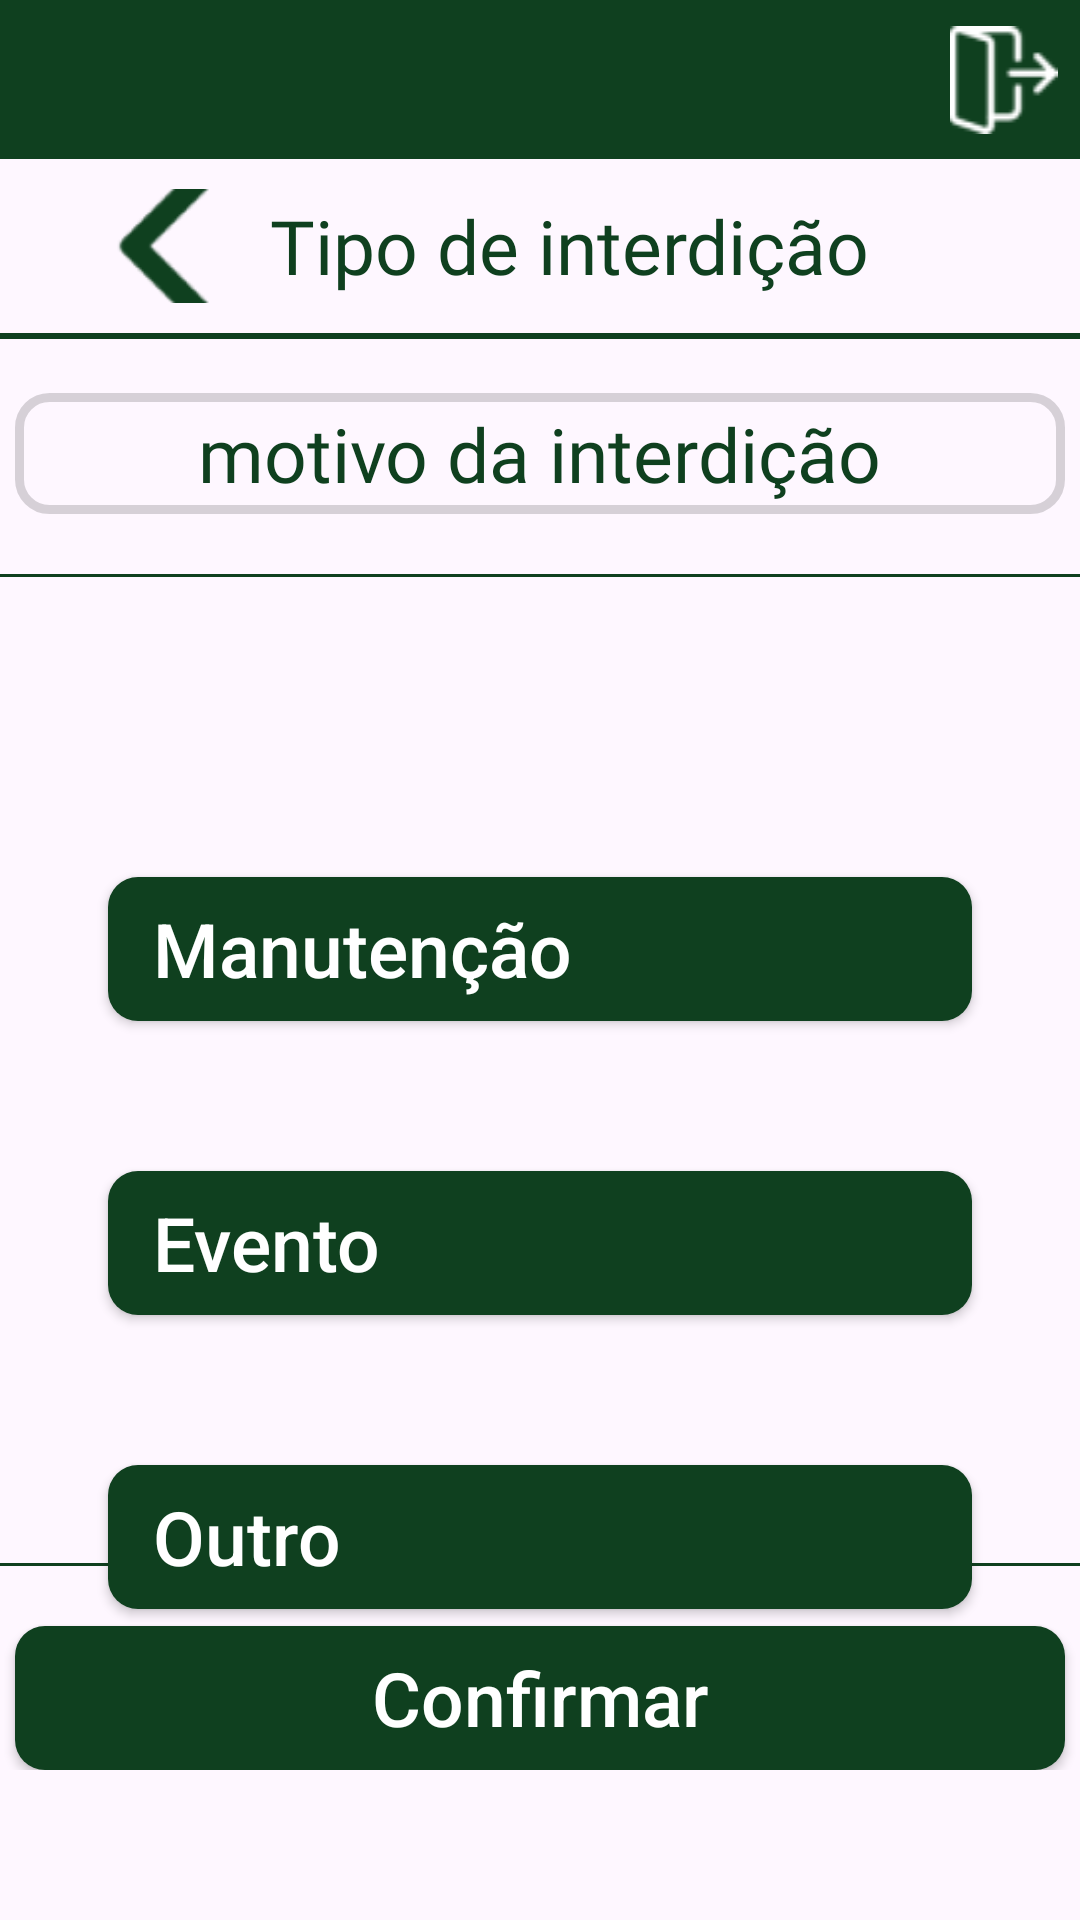

Named icons in this screenshot (1080×1920) and their centers, (x=x, y=y):
back page arrow: (x=164, y=246)
